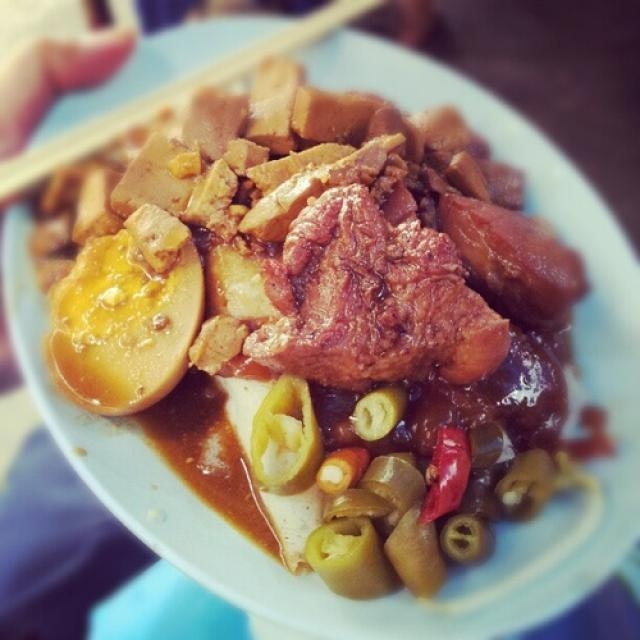猪肉菜式: (51, 58, 599, 592)
